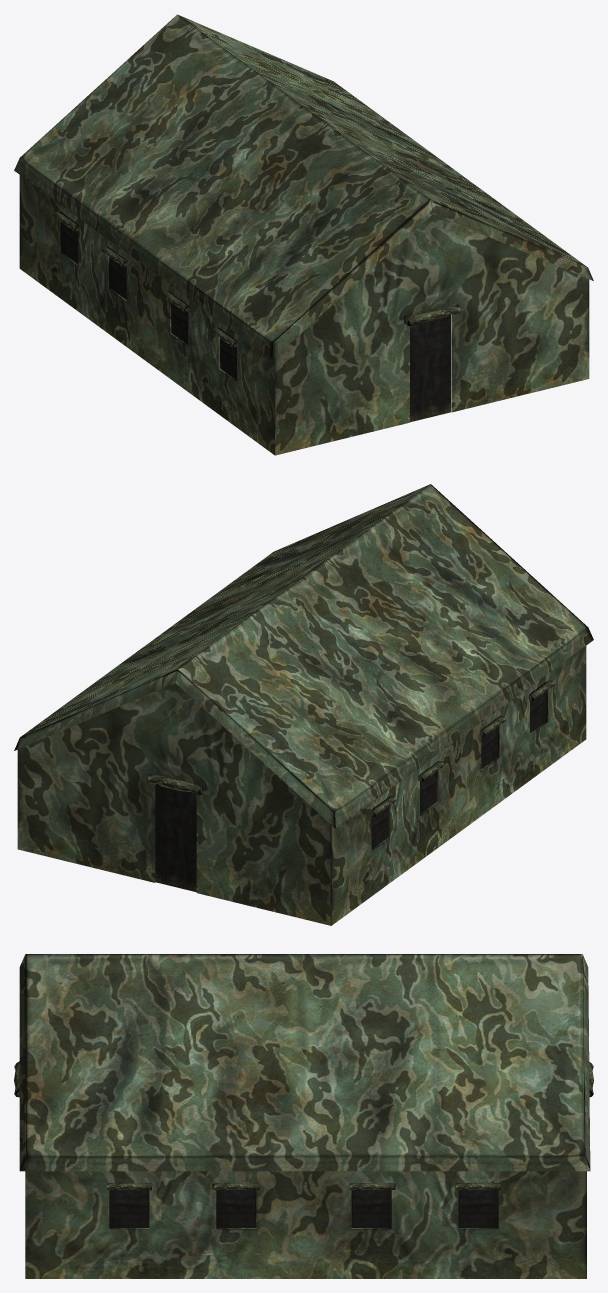
File: ZhiHuiSuo.glb
3 views of the same model, one above another, from view 1: azimuth 30°, elevation 25°; view 2: azimuth 150°, elevation 25°; view 3: azimuth 270°, elevation 25° (orthographic). The views are drawn at different scales.
Visible parts, largest first — view 1: 指挥所（帐篷）; view 2: 指挥所（帐篷）; view 3: 指挥所（帐篷）.
Part boxes in pixels (x1,y1,x2,y2): 指挥所（帐篷）: (14, 14, 593, 455); 指挥所（帐篷）: (14, 484, 593, 925); 指挥所（帐篷）: (14, 954, 593, 1278).
Bounding box in the file's own units: 5.24 × 3.38 × 7.41.
Materials: 1 (1 with a texture image).
